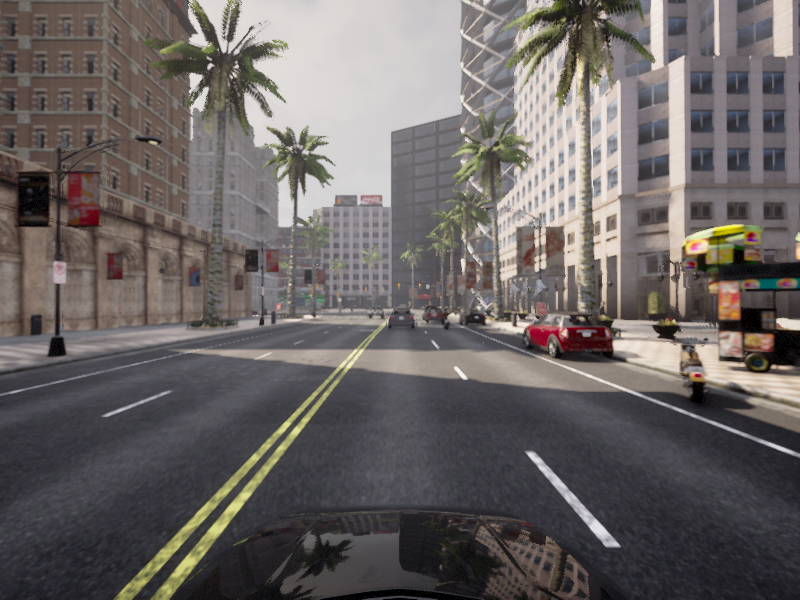vehicle: (387, 307, 415, 329), (423, 307, 445, 323), (391, 306, 411, 321), (439, 308, 452, 330), (422, 304, 439, 320)
